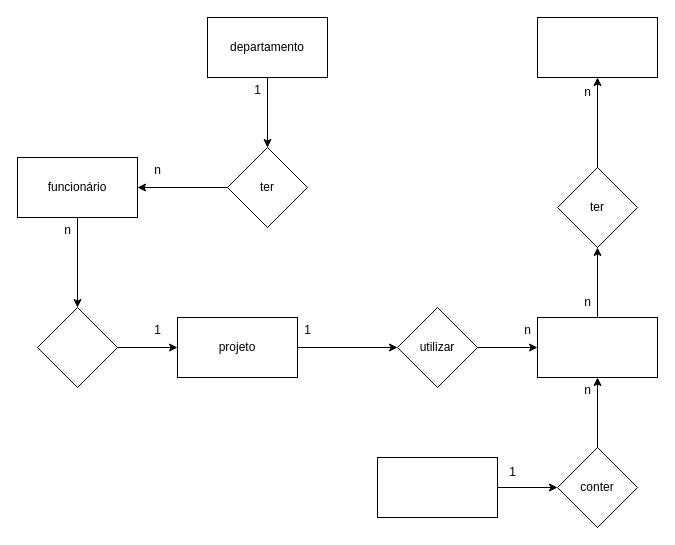
Some shapes in this 675 by 545 pixel diagram are drawn without their labels. Here are the shapes that lost their labels. From the top down, the centre of each, then its label:
(x=597, y=47): fornecedor
(x=77, y=347): pertence
(x=597, y=347): peças
(x=437, y=487): depósito
